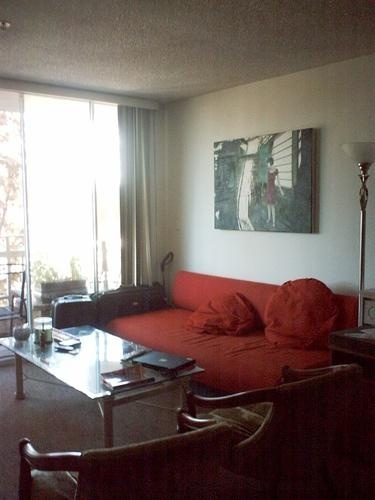chair: (185, 363, 366, 500), (21, 410, 230, 500)
sofa: (107, 270, 360, 396)
